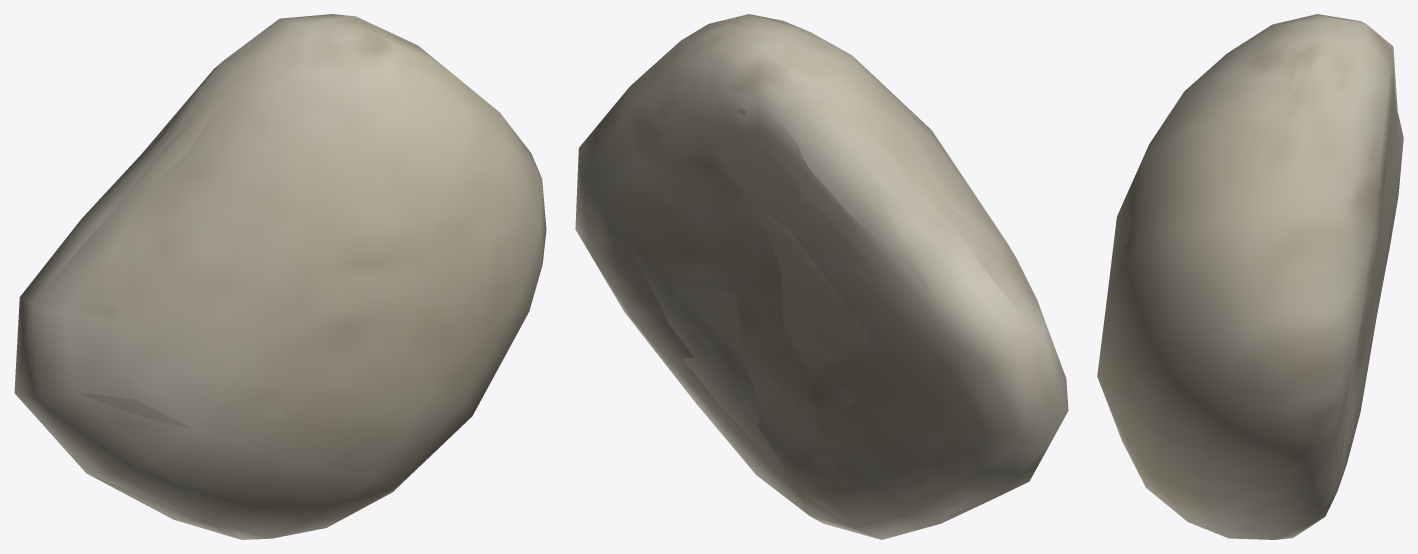
File: R Patella.fbx
3 views of the same model, side by side, from view 1: azimuth 30°, elevation 25°; view 2: azimuth 150°, elevation 25°; view 3: azimuth 270°, elevation 25° (orthographic). The views are drawn at different scales.
Visible parts, largest first — view 1: R Patella, R Patella low, R Patella high; view 2: R Patella, R Patella low, R Patella high; view 3: R Patella, R Patella low, R Patella high.
Boxes of the visible parts, x1,y1,x2,y2 form: R Patella: (14, 14, 546, 539); R Patella low: (33, 26, 538, 539); R Patella high: (92, 38, 461, 465); R Patella: (575, 14, 1068, 539); R Patella low: (575, 17, 1053, 527); R Patella high: (627, 22, 1028, 513); R Patella: (1097, 14, 1403, 539); R Patella low: (1098, 15, 1397, 489); R Patella high: (1122, 46, 1397, 449).
Size of the model in its own units: 1.13 by 1.05 by 0.5461.
1 material, 1 textured.
